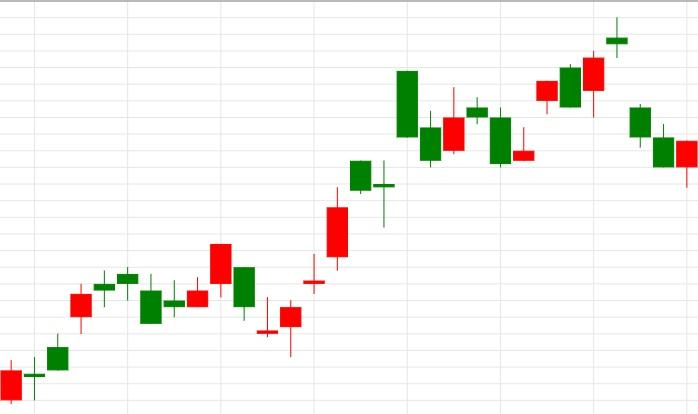three_white_soldiers_rise: (209, 243, 326, 357)
